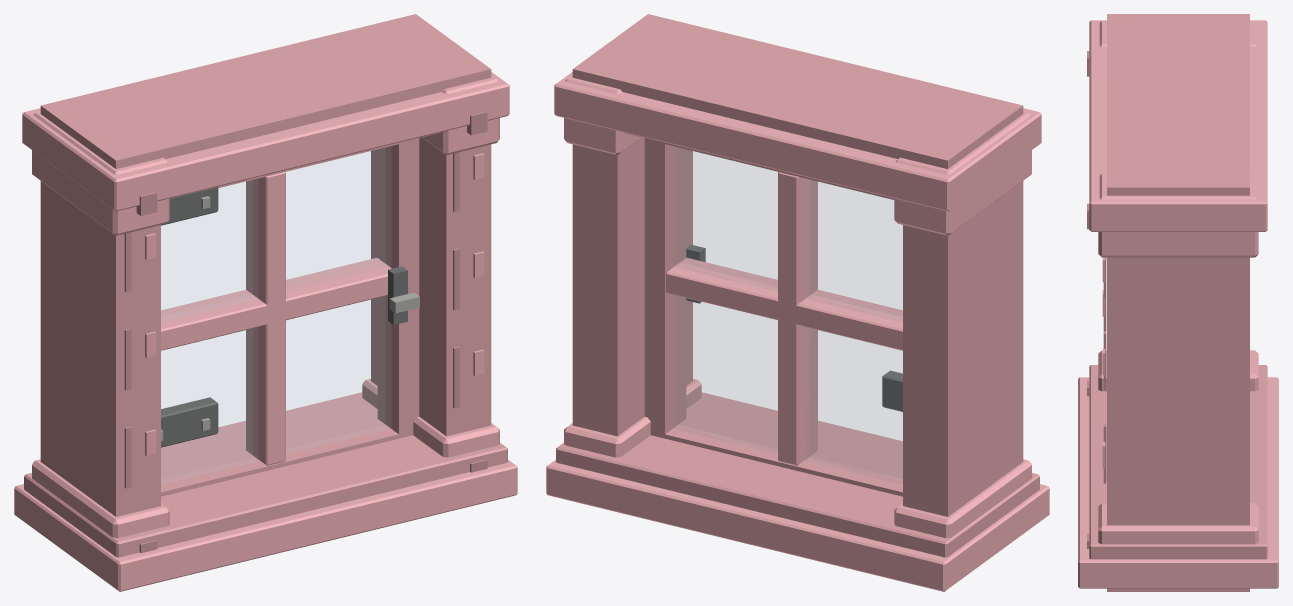
Rendered from cherry_window.gltf.
3 views of the same model, side by side, from view 1: azimuth 30°, elevation 25°; view 2: azimuth 150°, elevation 25°; view 3: azimuth 270°, elevation 25° (orthographic). The views are drawn at different scales.
Size of the model in its own units: 0.98 by 1 by 0.45.
